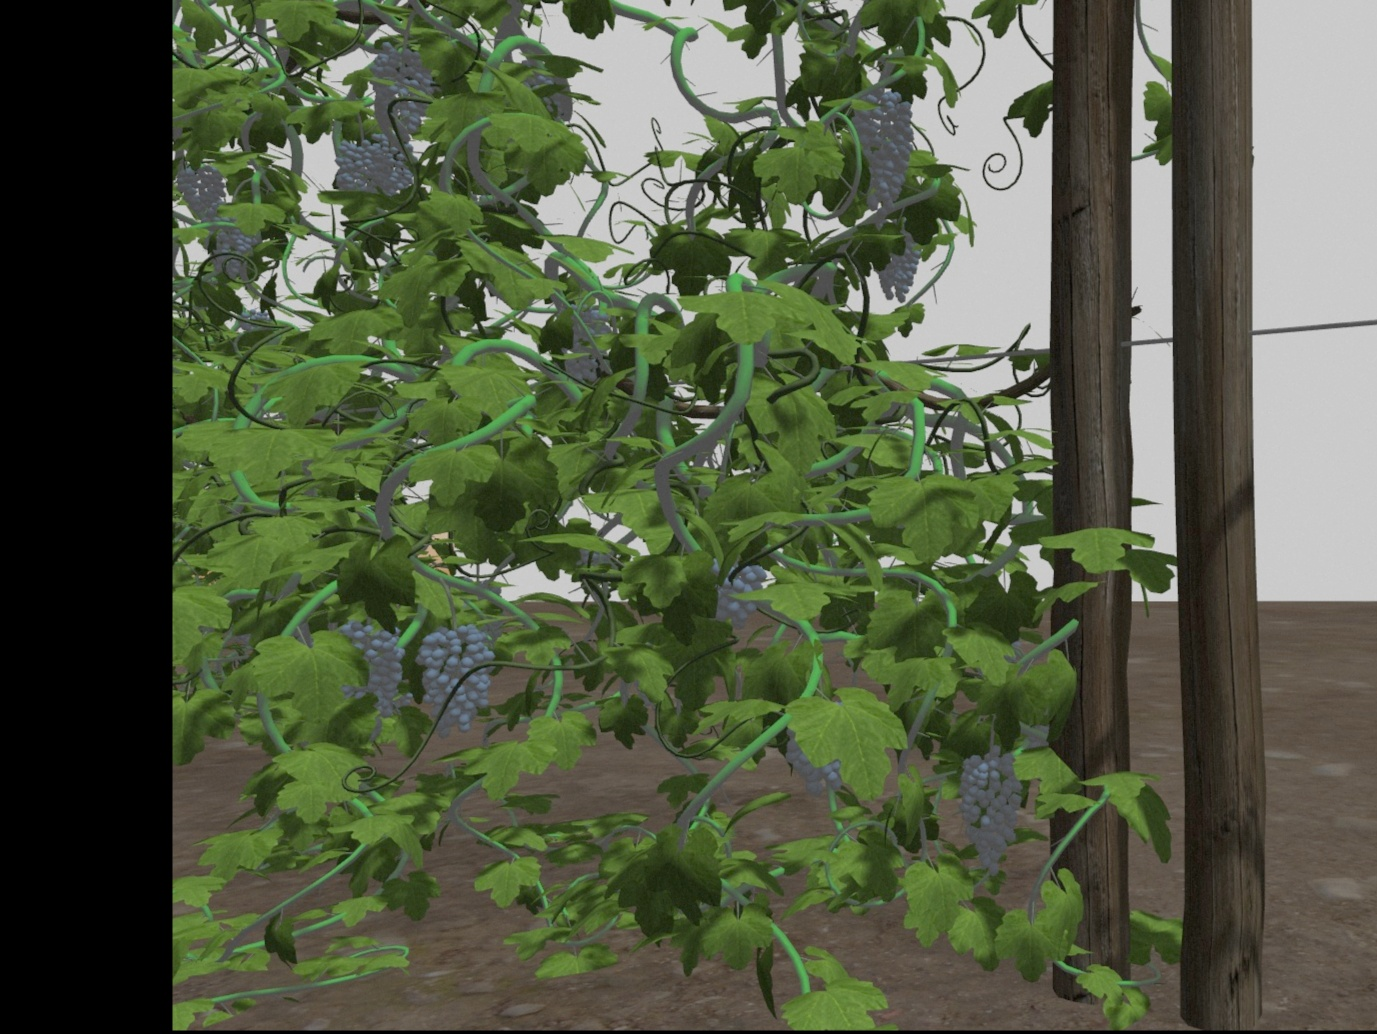grape: (959, 745, 1025, 880), (847, 89, 915, 211), (417, 625, 489, 739), (364, 50, 431, 139), (713, 560, 770, 628), (366, 625, 403, 716), (875, 236, 921, 303), (366, 134, 415, 193), (212, 227, 262, 281), (176, 166, 225, 217), (334, 133, 367, 196)
